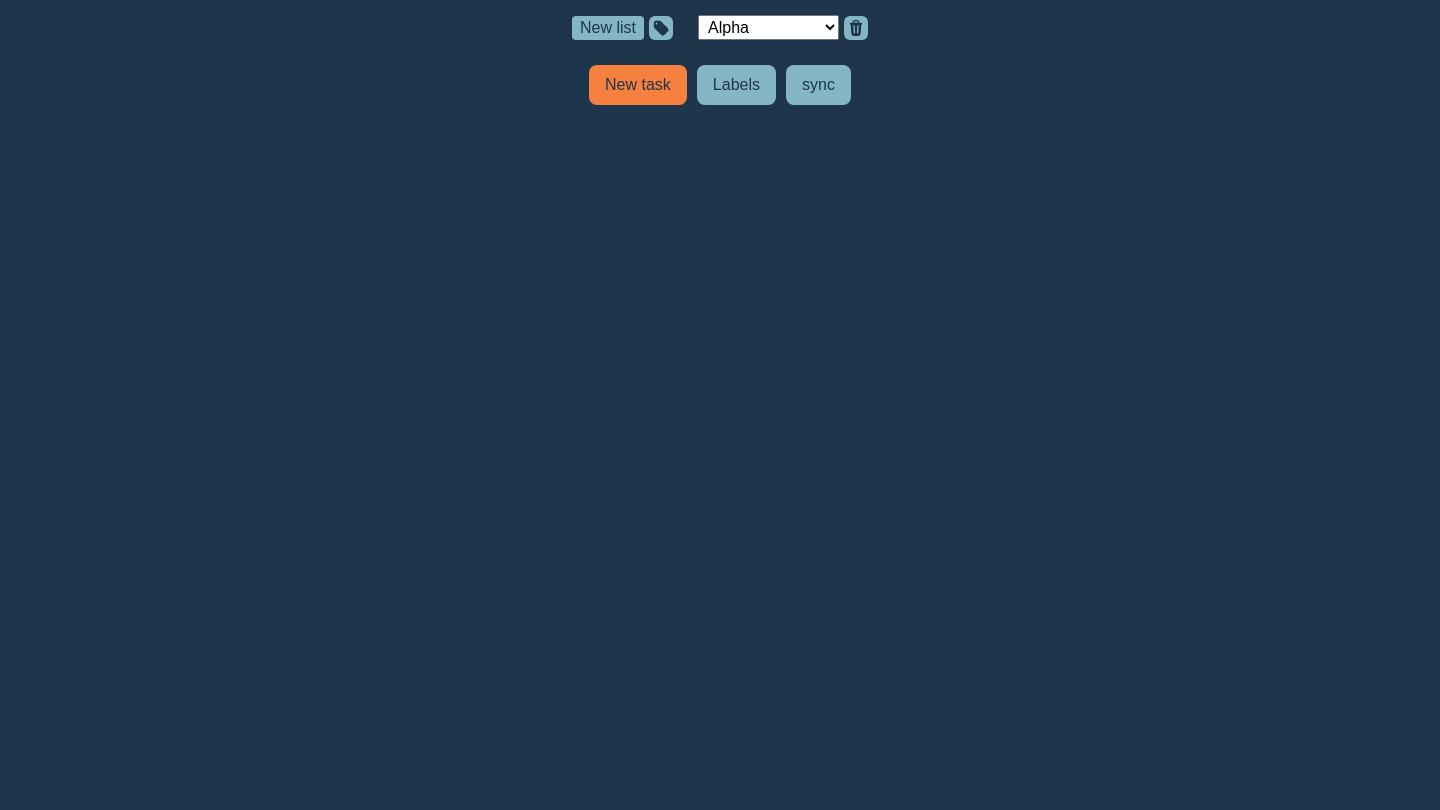
Test: opens the label management dialog from the labels icon
Expected: the dropdown shows "Alpha", [698, 15, 839, 40]
Step 1. Click the button named "Manage labels" → (661, 28), box [649, 16, 673, 40]
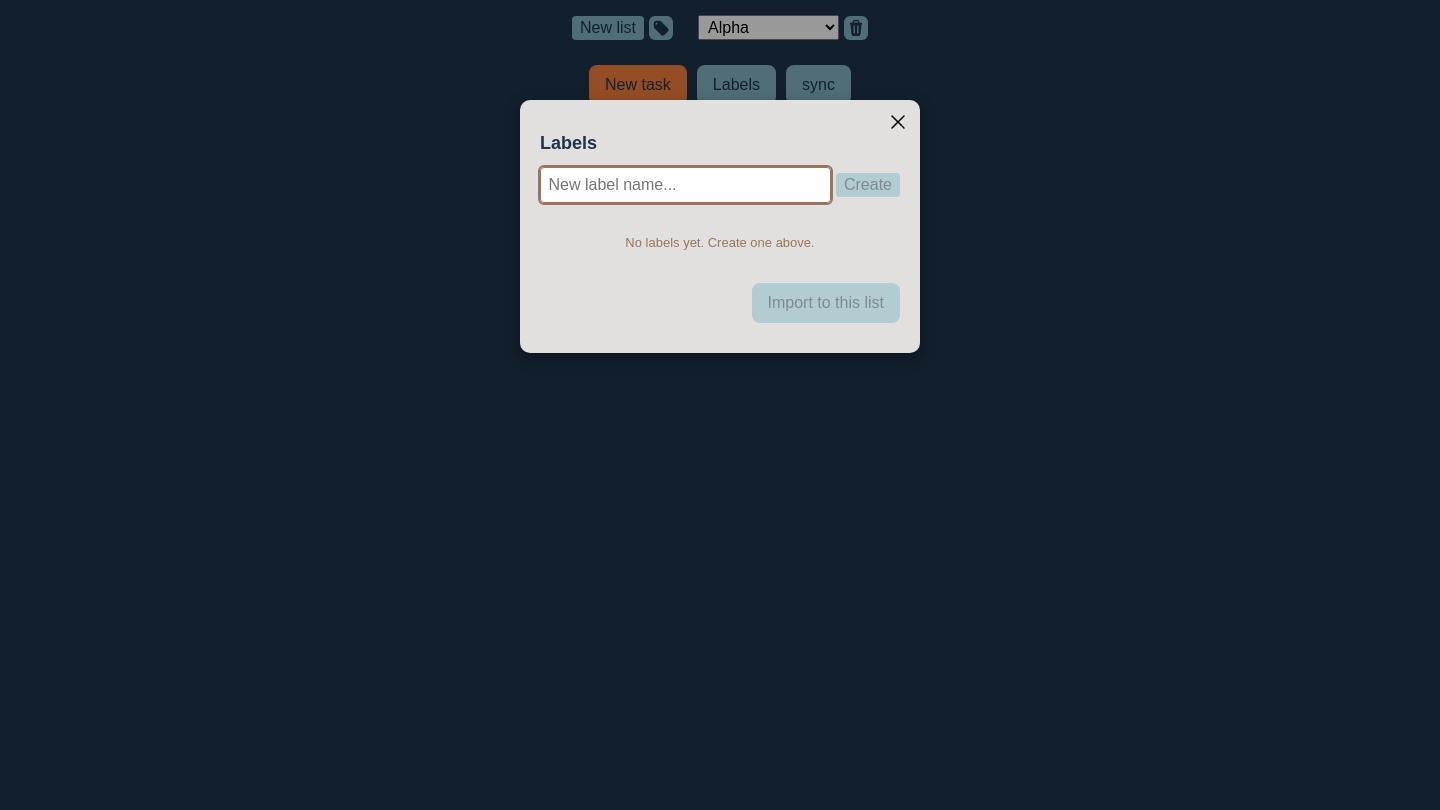
Result: the text "No labels yet. Create one above." is shown at [625, 235, 815, 250]
